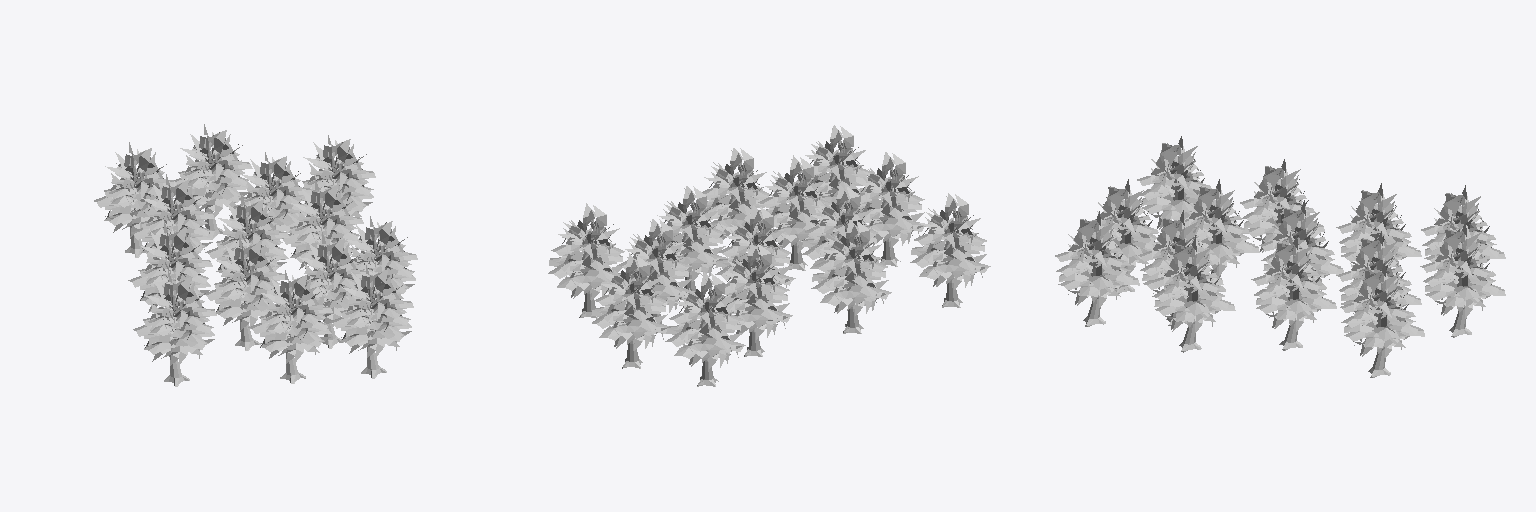
3 renders of one model, left to right at view 1: azimuth 30°, elevation 25°; view 2: azimuth 150°, elevation 25°; view 3: azimuth 270°, elevation 25°, orthographic.
Parts seen in each view (by area): view 1: tree-stylized-03-autumn-yellow_tree-branches-autumn-yellow-.006, tree-stylized-03-autumn-yellow_tree-branches-autumn-yellow-.008, tree-stylized-03-autumn-yellow_tree-branches-autumn-yellow-.007, tree-stylized-03-autumn-yellow_tree-branches-autumn-yellow-.010, tree-stylized-03-autumn-yellow_tree-branches-autumn-yellow-001, tree-stylized-03-autumn-yellow_tree-branches-autumn-yellow-.002, tree-stylized-03-autumn-yellow_tree-branches-autumn-yellow-.012, tree-stylized-03-autumn-yellow_tree-branches-autumn-yellow-.005, tree-stylized-03-autumn-yellow_tree-branches-autumn-yellow-.003, tree-stylized-03-autumn-yellow_tree-branches-autumn-yellow-, tree-stylized-03-autumn-yellow_tree-branches-autumn-yellow-.011, tree-stylized-03-autumn-yellow_tree-branches-autumn-yellow-.001 (+2 smaller); view 2: tree-stylized-03-autumn-yellow_tree-branches-autumn-yellow-.002, tree-stylized-03-autumn-yellow_tree-branches-autumn-yellow-001, tree-stylized-03-autumn-yellow_tree-branches-autumn-yellow-.005, tree-stylized-03-autumn-yellow_tree-branches-autumn-yellow-.006, tree-stylized-03-autumn-yellow_tree-branches-autumn-yellow-, tree-stylized-03-autumn-yellow_tree-branches-autumn-yellow-.003, tree-stylized-03-autumn-yellow_tree-branches-autumn-yellow-.008, tree-stylized-03-autumn-yellow_tree-branches-autumn-yellow-.011, tree-stylized-03-autumn-yellow_tree-branches-autumn-yellow-.009, tree-stylized-03-autumn-yellow_tree-branches-autumn-yellow-.012, tree-stylized-03-autumn-yellow_tree-branches-autumn-yellow-.001, tree-stylized-03-autumn-yellow_tree-branches-autumn-yellow-.007 (+2 smaller); view 3: tree-stylized-03-autumn-yellow_tree-branches-autumn-yellow-.007, tree-stylized-03-autumn-yellow_tree-branches-autumn-yellow-.009, tree-stylized-03-autumn-yellow_tree-branches-autumn-yellow-.012, tree-stylized-03-autumn-yellow_tree-branches-autumn-yellow-001, tree-stylized-03-autumn-yellow_tree-branches-autumn-yellow-, tree-stylized-03-autumn-yellow_tree-branches-autumn-yellow-.006, tree-stylized-03-autumn-yellow_tree-branches-autumn-yellow-.010, tree-stylized-03-autumn-yellow_tree-branches-autumn-yellow-.003, tree-stylized-03-autumn-yellow_tree-branches-autumn-yellow-.005, tree-stylized-03-autumn-yellow_tree-branches-autumn-yellow-.008, tree-stylized-03-autumn-yellow_tree-branches-autumn-yellow-.002, tree-stylized-03-autumn-yellow_tree-branches-autumn-yellow-.004 (+2 smaller).
Part boxes in pixels (x1,y1,x2,y2): tree-stylized-03-autumn-yellow_tree-branches-autumn-yellow-.006: (133,270,216,365); tree-stylized-03-autumn-yellow_tree-branches-autumn-yellow-.008: (248,270,332,363); tree-stylized-03-autumn-yellow_tree-branches-autumn-yellow-.007: (330,265,413,357); tree-stylized-03-autumn-yellow_tree-branches-autumn-yellow-.010: (203,235,284,330); tree-stylized-03-autumn-yellow_tree-branches-autumn-yellow-001: (174,124,252,217); tree-stylized-03-autumn-yellow_tree-branches-autumn-yellow-.002: (94,142,176,237); tree-stylized-03-autumn-yellow_tree-branches-autumn-yellow-.012: (282,178,363,269); tree-stylized-03-autumn-yellow_tree-branches-autumn-yellow-.005: (128,221,212,312); tree-stylized-03-autumn-yellow_tree-branches-autumn-yellow-.003: (131,174,214,259); tree-stylized-03-autumn-yellow_tree-branches-autumn-yellow-: (302,135,375,216); tree-stylized-03-autumn-yellow_tree-branches-autumn-yellow-.011: (291,232,368,327); tree-stylized-03-autumn-yellow_tree-branches-autumn-yellow-.001: (229,152,311,232); tree-stylized-03-autumn-yellow_tree-branches-autumn-yellow-.002: (665,272,745,368); tree-stylized-03-autumn-yellow_tree-branches-autumn-yellow-001: (591,253,668,350); tree-stylized-03-autumn-yellow_tree-branches-autumn-yellow-.005: (811,220,891,315); tree-stylized-03-autumn-yellow_tree-branches-autumn-yellow-.006: (910,193,990,289); tree-stylized-03-autumn-yellow_tree-branches-autumn-yellow-: (548,203,624,300); tree-stylized-03-autumn-yellow_tree-branches-autumn-yellow-.003: (723,242,792,339); tree-stylized-03-autumn-yellow_tree-branches-autumn-yellow-.008: (857,152,924,249); tree-stylized-03-autumn-yellow_tree-branches-autumn-yellow-.011: (756,155,831,253); tree-stylized-03-autumn-yellow_tree-branches-autumn-yellow-.009: (702,148,772,239); tree-stylized-03-autumn-yellow_tree-branches-autumn-yellow-.012: (653,186,727,281); tree-stylized-03-autumn-yellow_tree-branches-autumn-yellow-.001: (617,219,694,314); tree-stylized-03-autumn-yellow_tree-branches-autumn-yellow-.007: (797,125,870,211); tree-stylized-03-autumn-yellow_tree-branches-autumn-yellow-.007: (1055,211,1139,307); tree-stylized-03-autumn-yellow_tree-branches-autumn-yellow-.009: (1150,236,1235,332); tree-stylized-03-autumn-yellow_tree-branches-autumn-yellow-.012: (1251,235,1336,331); tree-stylized-03-autumn-yellow_tree-branches-autumn-yellow-001: (1420,222,1505,318); tree-stylized-03-autumn-yellow_tree-branches-autumn-yellow-: (1340,263,1424,357); tree-stylized-03-autumn-yellow_tree-branches-autumn-yellow-.006: (1137,136,1211,229); tree-stylized-03-autumn-yellow_tree-branches-autumn-yellow-.010: (1182,179,1259,275); tree-stylized-03-autumn-yellow_tree-branches-autumn-yellow-.003: (1336,183,1421,267); tree-stylized-03-autumn-yellow_tree-branches-autumn-yellow-.005: (1240,159,1324,252); tree-stylized-03-autumn-yellow_tree-branches-autumn-yellow-.008: (1089,179,1158,274); tree-stylized-03-autumn-yellow_tree-branches-autumn-yellow-.002: (1421,185,1505,266); tree-stylized-03-autumn-yellow_tree-branches-autumn-yellow-.004: (1259,200,1343,290).
Bounding box in the file's own units: 23.35 × 7.43 × 27.59.